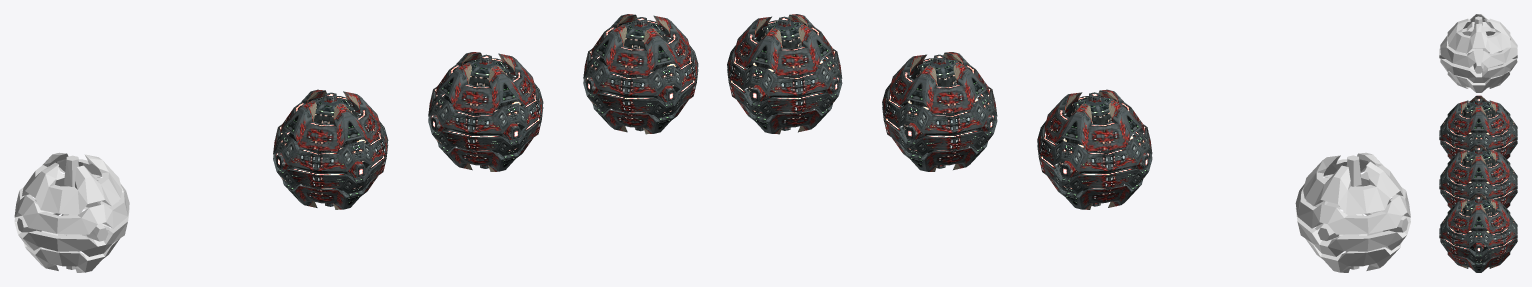
File: bst_nomadmoon.DAE
3 renders of one model, left to right at view 1: azimuth 30°, elevation 25°; view 2: azimuth 150°, elevation 25°; view 3: azimuth 270°, elevation 25°, orthographic. The views are drawn at different scales.
Parts seen in each view (by area): view 1: COL[Root], MULT[root_mesh]_LOD[2], MULT[root_mesh]_LOD[1], MULT[root_mesh]_LOD[0], MULT[innermesh]_LOD[2], MULT[innermesh]_LOD[1], MULT[innermesh]_LOD[0]; view 2: COL[Root], MULT[root_mesh]_LOD[2], MULT[root_mesh]_LOD[1], MULT[root_mesh]_LOD[0], MULT[innermesh]_LOD[2], MULT[innermesh]_LOD[1], MULT[innermesh]_LOD[0]; view 3: COL[Root], MULT[root_mesh]_LOD[2], MULT[root_mesh]_LOD[0], MULT[root_mesh]_LOD[1], MULT[innermesh]_LOD[2], MULT[innermesh]_LOD[0], MULT[innermesh]_LOD[1].
Boxes of the visible parts, x1,y1,x2,y2 form: COL[Root]: [14, 152, 129, 272]; MULT[root_mesh]_LOD[2]: [583, 14, 698, 134]; MULT[root_mesh]_LOD[1]: [428, 52, 543, 171]; MULT[root_mesh]_LOD[0]: [273, 89, 388, 209]; MULT[innermesh]_LOD[2]: [599, 20, 679, 114]; MULT[innermesh]_LOD[1]: [444, 58, 524, 152]; MULT[innermesh]_LOD[0]: [289, 96, 369, 190]; COL[Root]: [1295, 152, 1410, 272]; MULT[root_mesh]_LOD[2]: [727, 14, 842, 134]; MULT[root_mesh]_LOD[1]: [882, 52, 997, 171]; MULT[root_mesh]_LOD[0]: [1037, 89, 1152, 209]; MULT[innermesh]_LOD[2]: [740, 20, 822, 114]; MULT[innermesh]_LOD[1]: [895, 58, 977, 152]; MULT[innermesh]_LOD[0]: [1050, 96, 1132, 190]; COL[Root]: [1439, 14, 1517, 92]; MULT[root_mesh]_LOD[2]: [1439, 194, 1517, 272]; MULT[root_mesh]_LOD[0]: [1439, 95, 1517, 159]; MULT[root_mesh]_LOD[1]: [1439, 144, 1517, 208]; MULT[innermesh]_LOD[2]: [1455, 199, 1503, 251]; MULT[innermesh]_LOD[0]: [1454, 101, 1503, 150]; MULT[innermesh]_LOD[1]: [1454, 150, 1503, 199].
Bounding box in the file's own units: 12853 × 1994 × 1996.
Materials: 14 (14 with a texture image).
